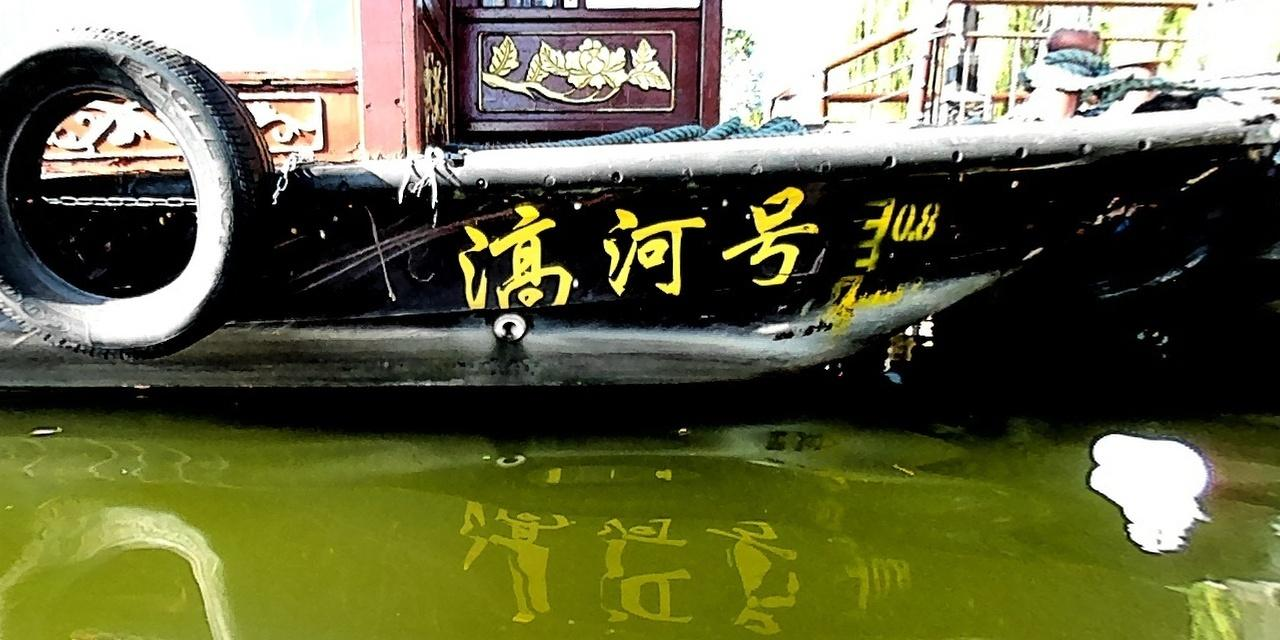bottle: (1090, 430, 1204, 494)
